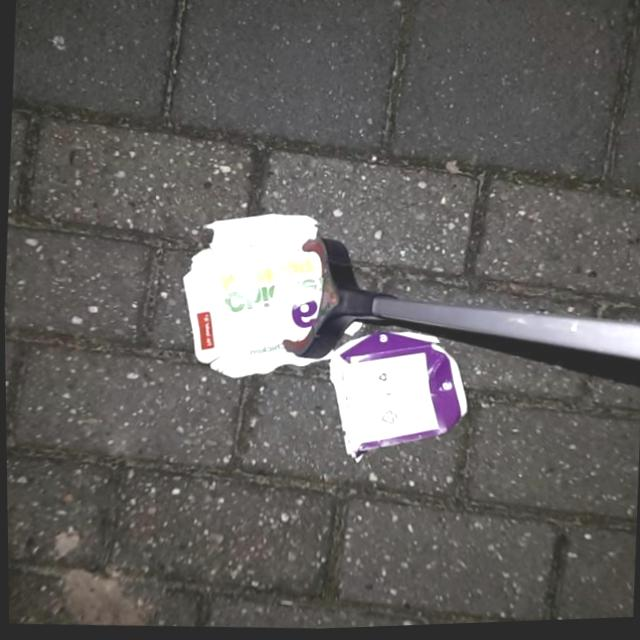Paper: (175, 207, 327, 389), (309, 328, 475, 472)
